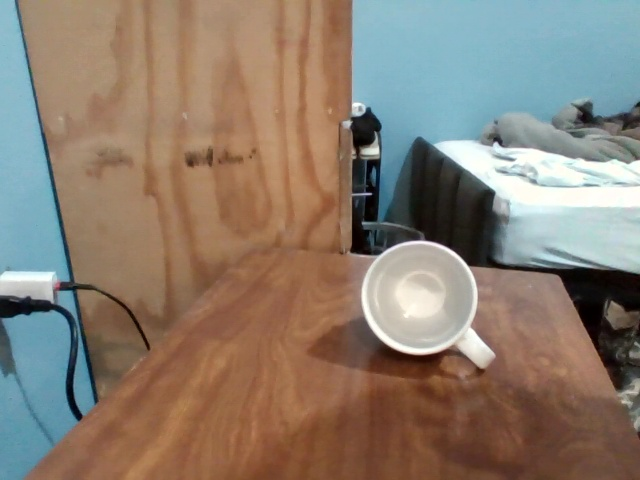taza: (362, 240, 488, 365)
